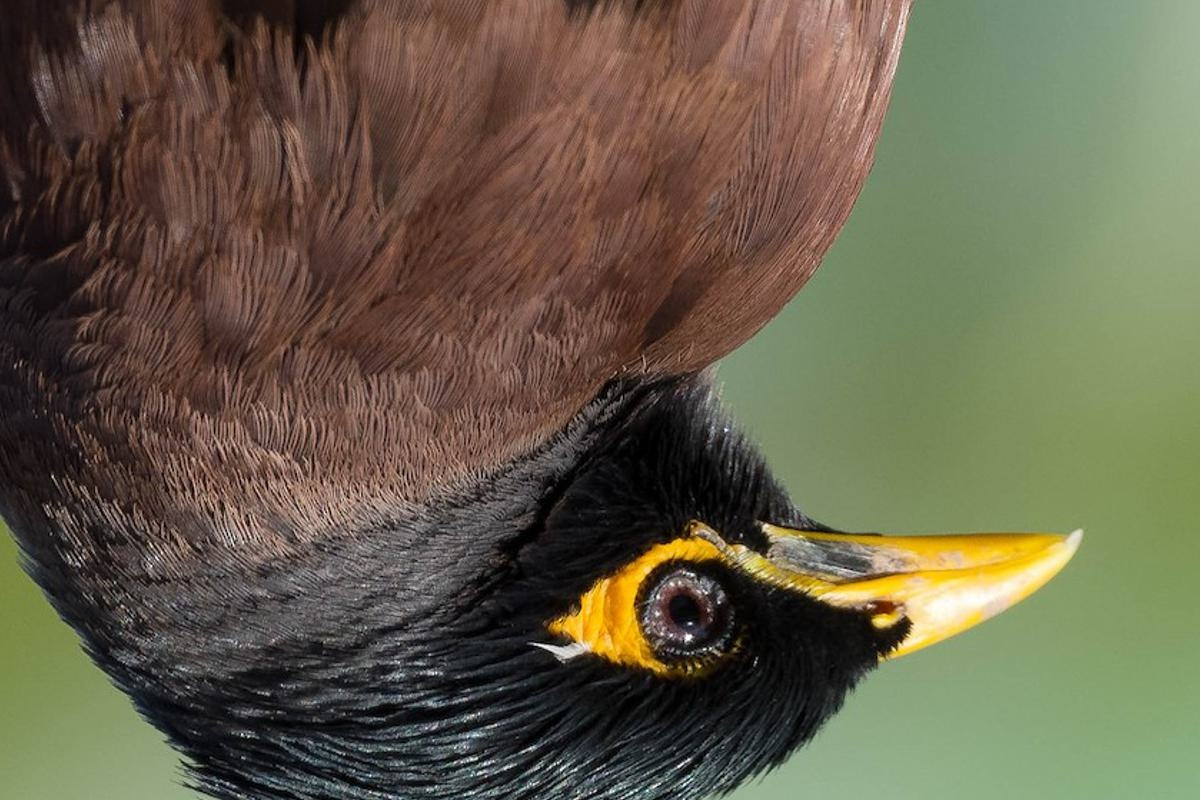myna: (97, 15, 1077, 766)
